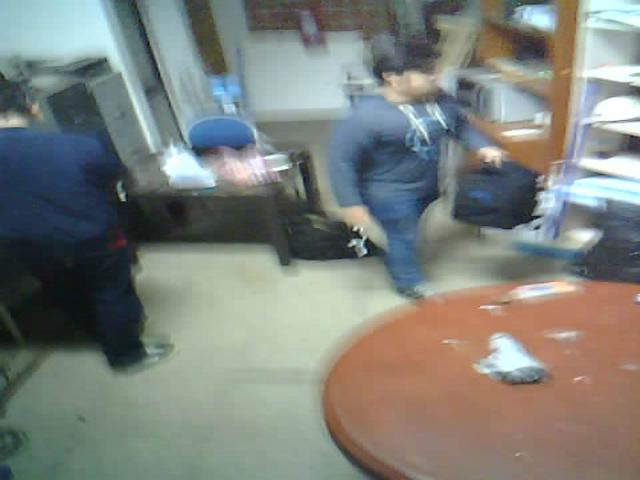person: (329, 15, 560, 330), (0, 58, 198, 385)
